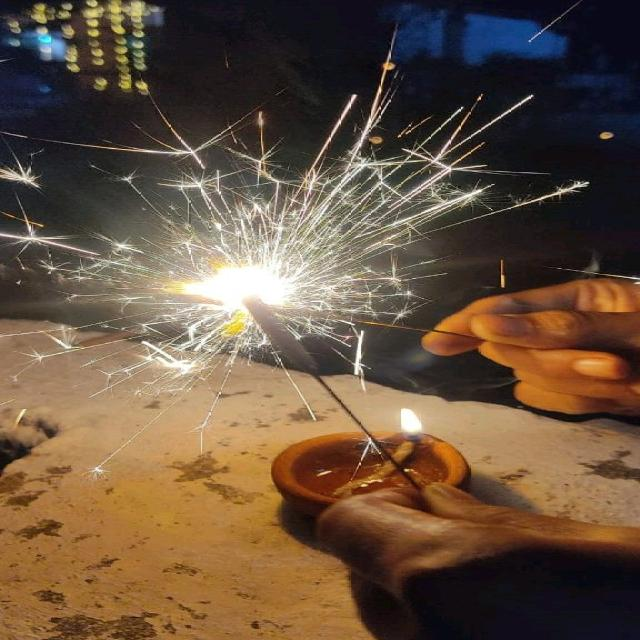fire: (180, 261, 303, 315)
